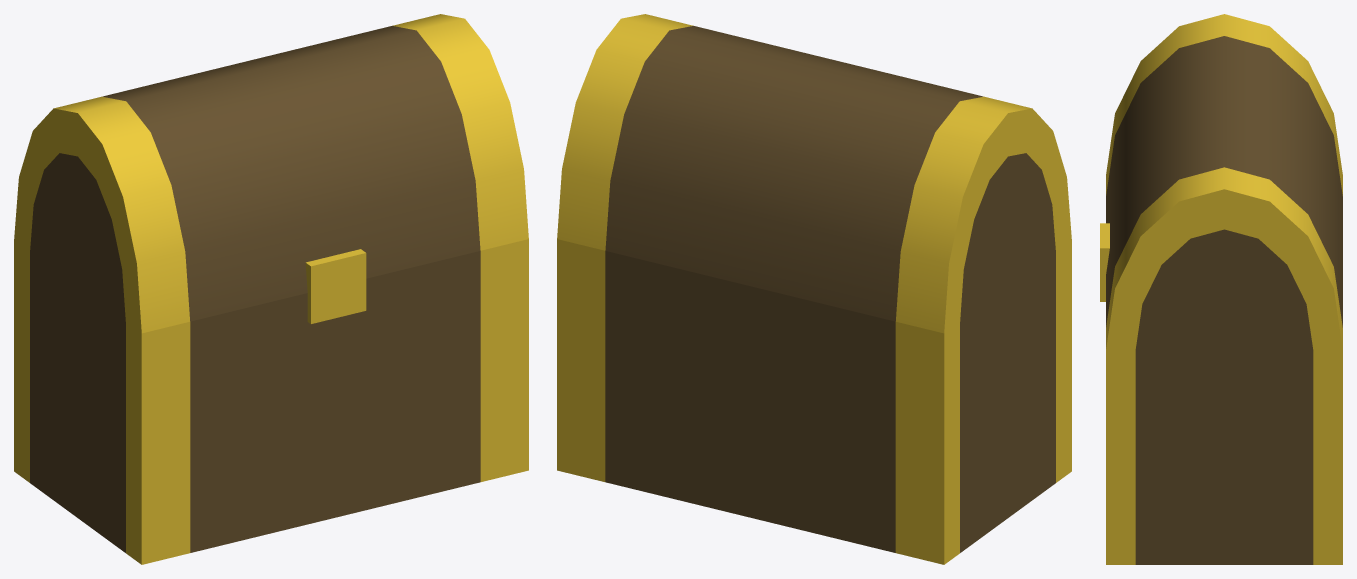
File: Chest.fbx
3 renders of one model, left to right at view 1: azimuth 30°, elevation 25°; view 2: azimuth 150°, elevation 25°; view 3: azimuth 270°, elevation 25°, orthographic. The views are drawn at different scales.
Visible parts, largest first — view 1: Chest1, Top, Hatch; view 2: Chest1, Top; view 3: Top, Chest1, Hatch.
Part boxes in pixels (<box>): Chest1: <box>14,239,528,564</box>; Top: <box>14,14,528,333</box>; Hatch: <box>305,249,366,323</box>; Chest1: <box>557,239,1071,564</box>; Top: <box>557,14,1071,333</box>; Top: <box>1106,14,1342,350</box>; Chest1: <box>1106,350,1342,564</box>; Hatch: <box>1100,223,1109,301</box>.
Size of the model in its own units: 1.75 by 1.75 by 1.02.
